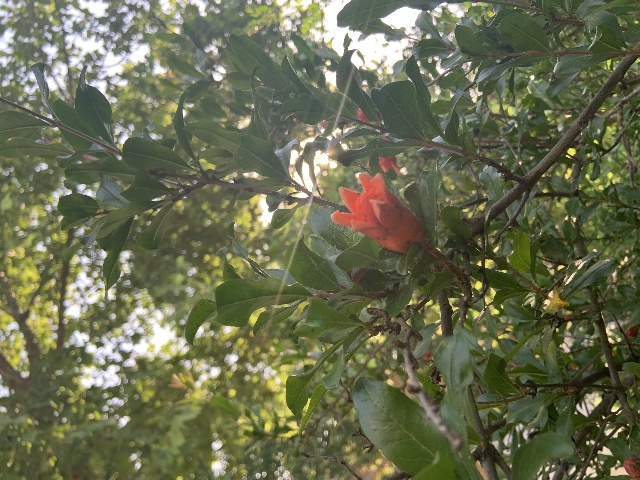bud: (357, 107, 380, 122)
flower: (330, 170, 426, 253), (367, 136, 400, 174)
